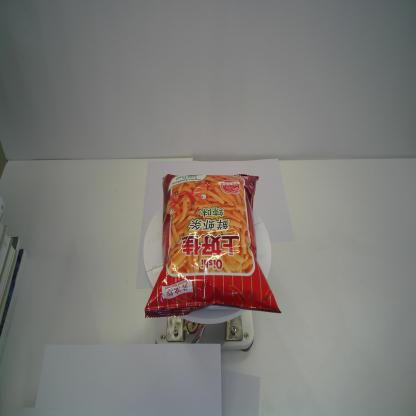Puffed Food: (143, 173, 282, 319)
